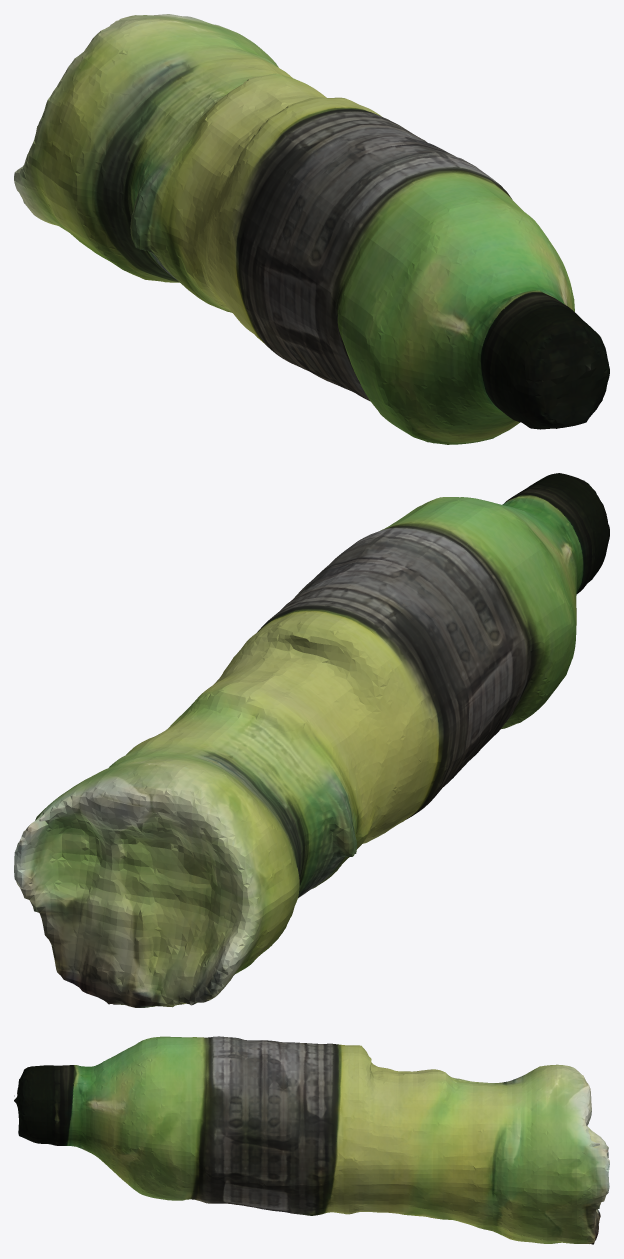
File: 0_rgba.obj
3 renders of one model, top to bottom at view 1: azimuth 30°, elevation 25°; view 2: azimuth 150°, elevation 25°; view 3: azimuth 270°, elevation 25°, orthographic. The views are drawn at different scales.
Bounding box in the file's own units: 0.597 × 0.6838 × 1.97.
Materials: 1 (1 with a texture image).
